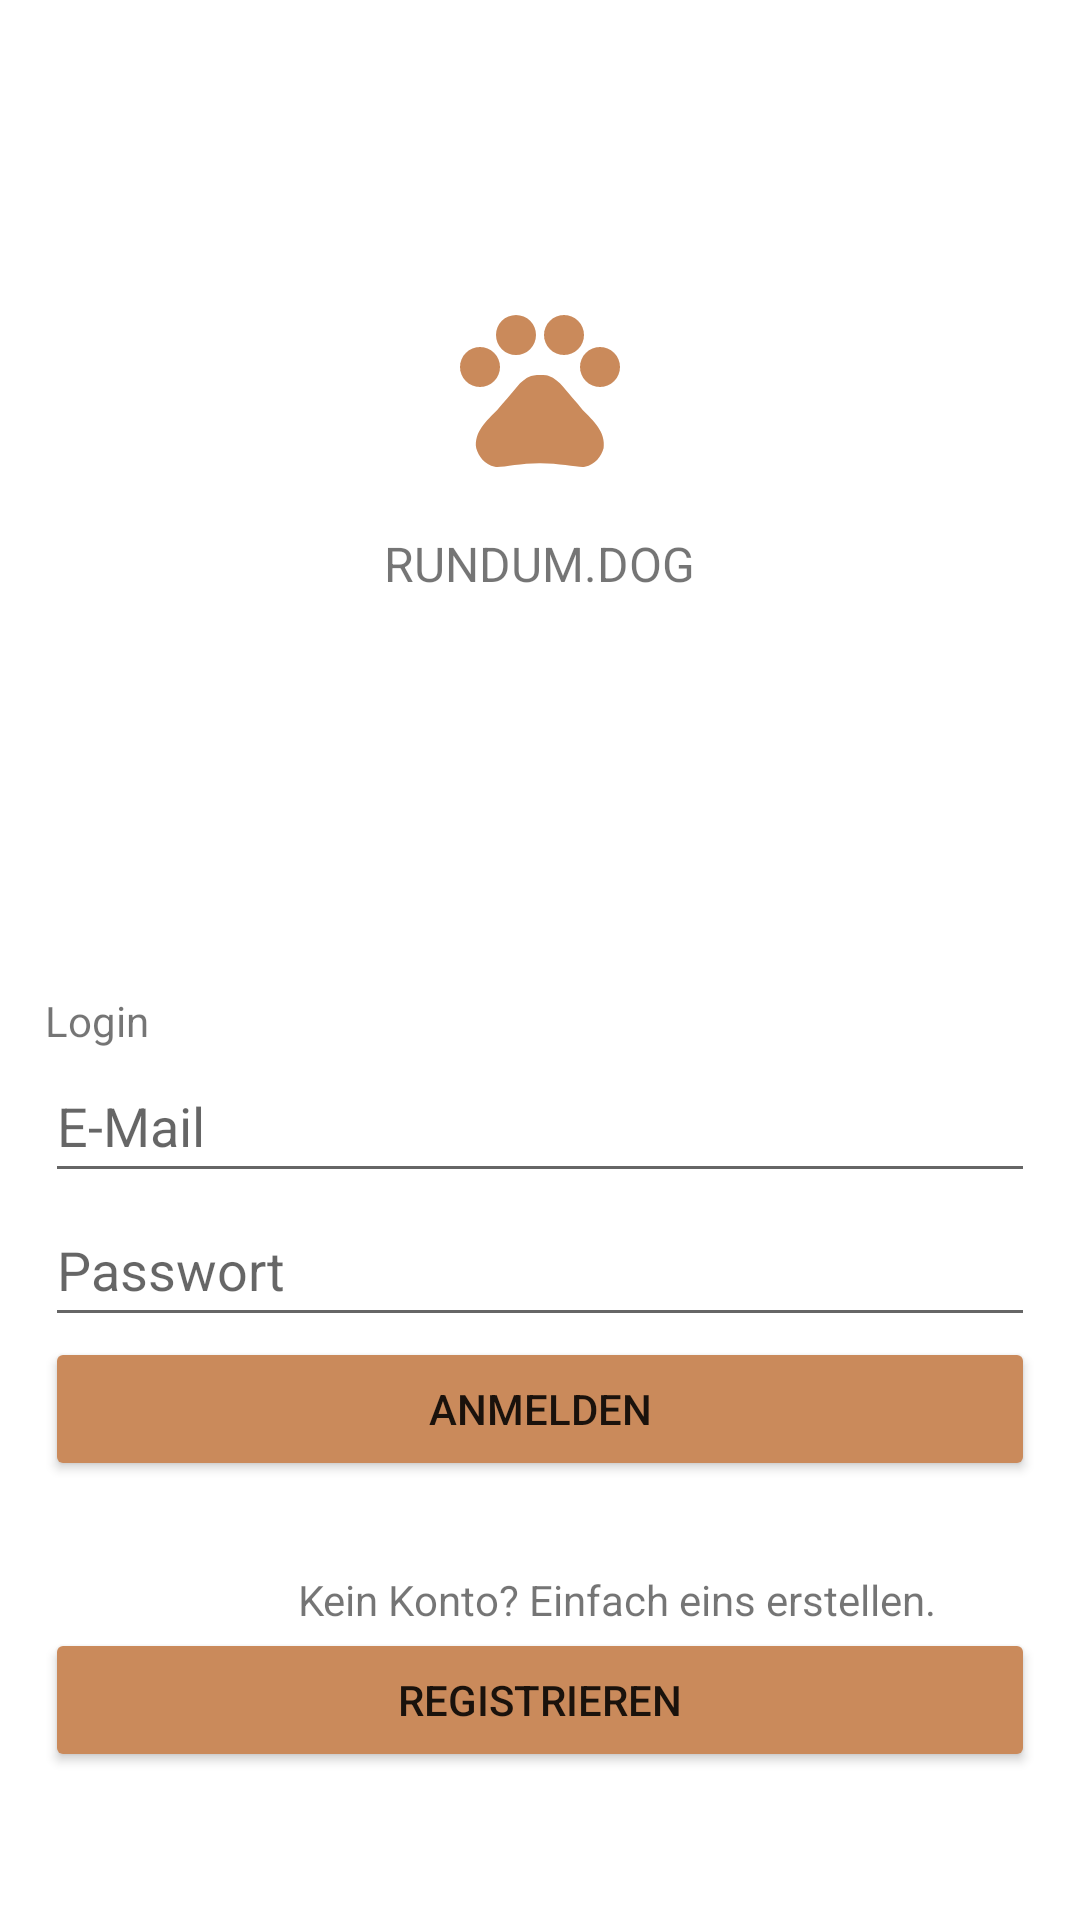

Locate icon controls on the screen. Image size 1080×1920, boxes as [x1=x1, y1=y1, x2=x2, y2=y2].
pets: [x1=460, y1=315, x2=620, y2=467]
